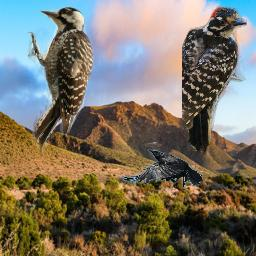Crow: (120, 149, 202, 189)
Woodpecker: (26, 3, 94, 155), (182, 5, 247, 157)
